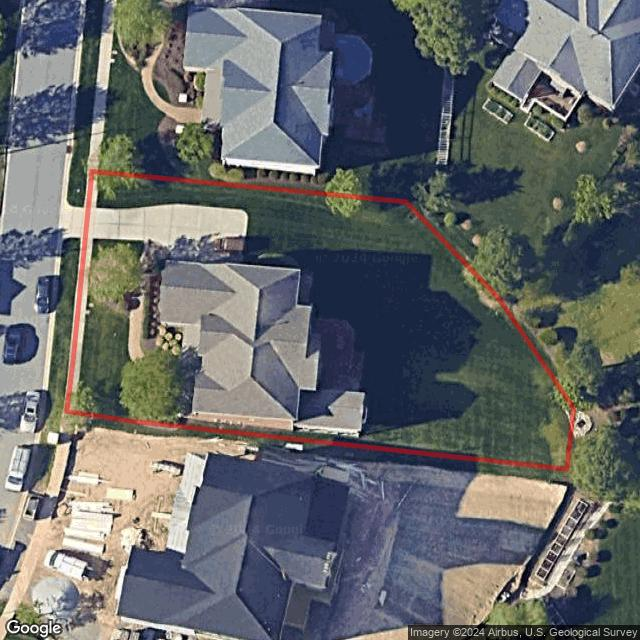Driveway: (84, 204, 249, 266)
Extra-Driveway: (63, 202, 88, 240)
Extra-Lawn: (45, 238, 80, 411), (66, 167, 86, 208)
Extra-Sidewalk: (60, 238, 85, 425), (84, 170, 93, 208)
House: (158, 258, 366, 437)
Lawn: (65, 168, 574, 467)
Other: (120, 361, 197, 420), (308, 318, 364, 393), (142, 260, 183, 361), (90, 254, 140, 316)
Sidewalk: (127, 260, 196, 374), (68, 238, 93, 414), (88, 170, 98, 208)
